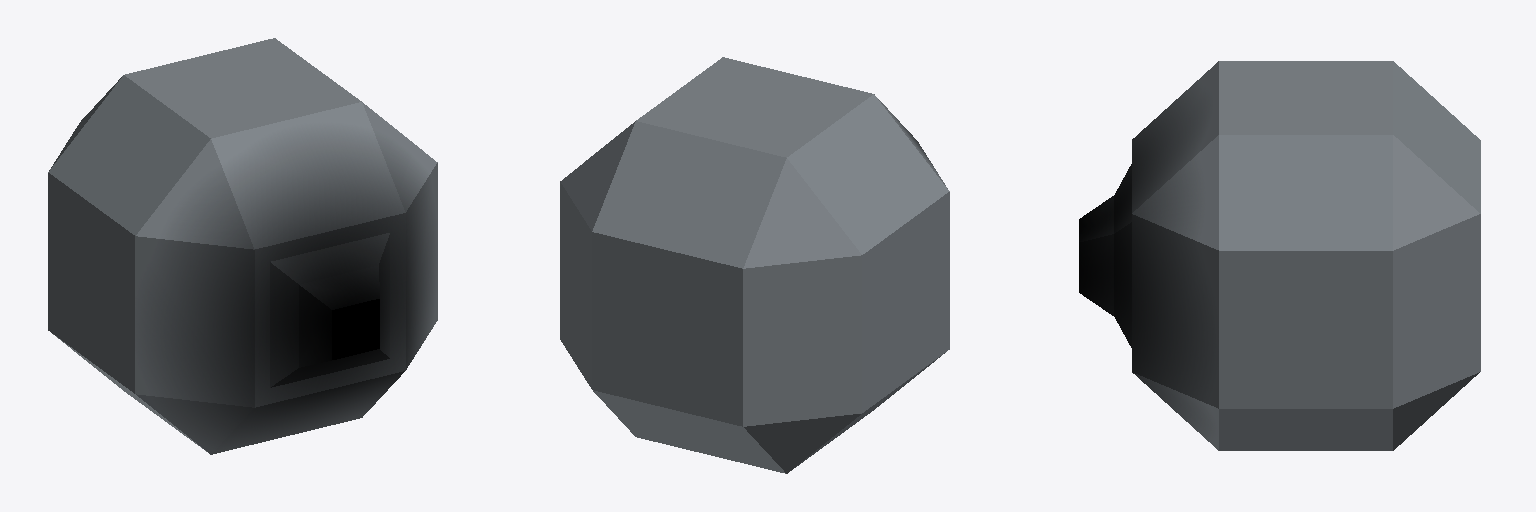
The picture shows the model from 3 angles: view 1: azimuth 30°, elevation 25°; view 2: azimuth 150°, elevation 25°; view 3: azimuth 270°, elevation 25°; orthographic projection.
Parts seen in each view (by area): view 1: Cube; view 2: Cube; view 3: Cube.
Part boxes in pixels (bbox=[...]): Cube: bbox=[48, 38, 437, 454]; Cube: bbox=[560, 57, 949, 473]; Cube: bbox=[1079, 61, 1480, 450].
Bounding box in the file's own units: 1.8 × 1.8 × 2.07.
Materials: 1 (1 with a texture image).